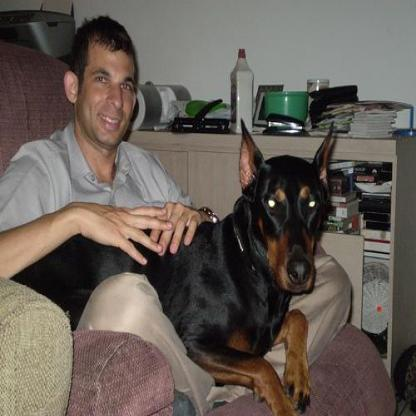Doberman: (6, 116, 332, 412)
